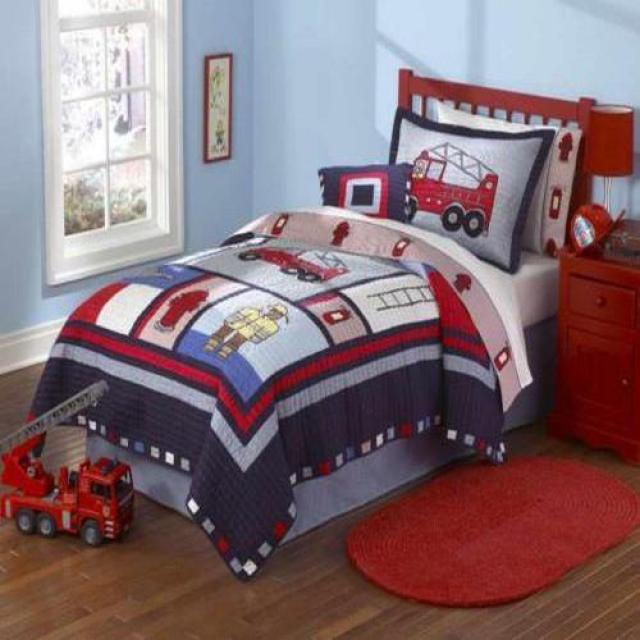bed: (27, 69, 581, 582)
